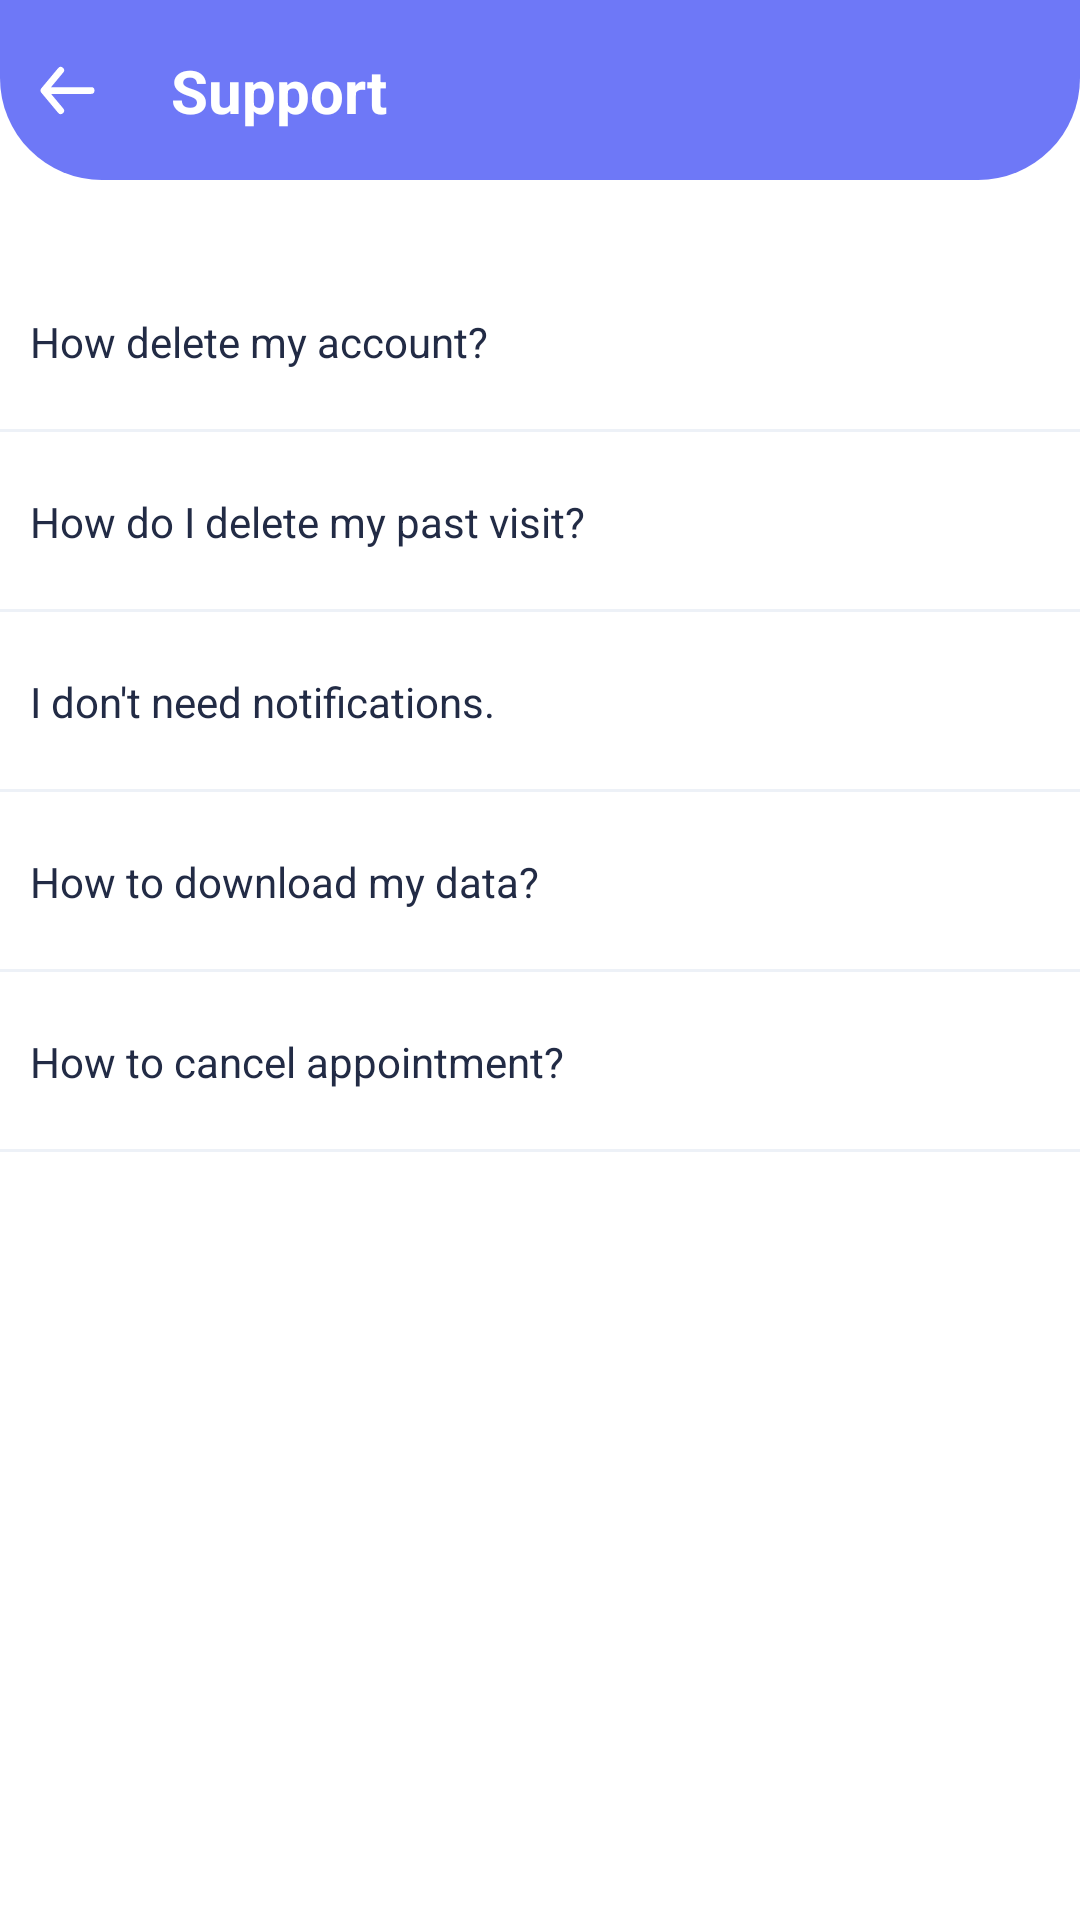

Icon bounding boxes for this 1080 × 1920 phone screenshot, format bbox=[x1, y1, x2, y2]:
back arrow: bbox=[40, 66, 95, 115]
